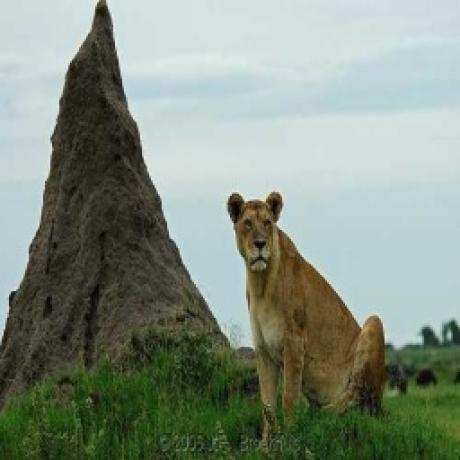Lion: (225, 191, 388, 433)
